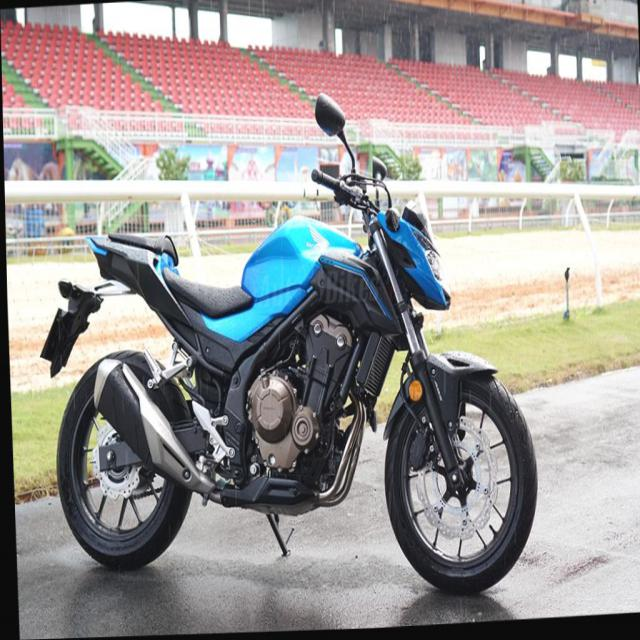CB500F: (33, 156, 540, 622)
